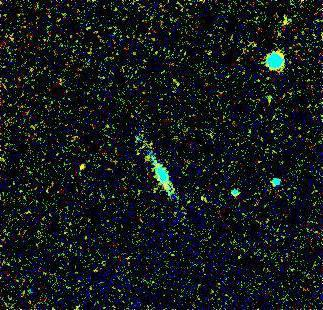star: (68, 153, 98, 183)
